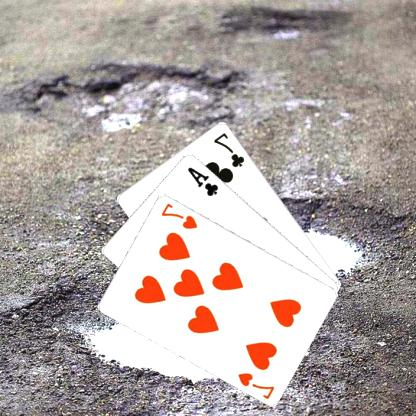7C: (212, 130, 248, 168)
7H: (237, 369, 278, 401), (159, 200, 201, 230)
AC: (186, 164, 222, 197)
